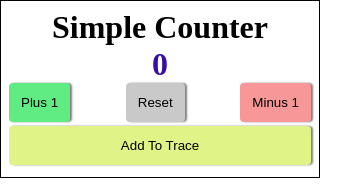
Test: counter testing › should add on click addButton
Expect to add 1
Click the button "Plus 1" at x=40, y=102, box [9,83,70,122]
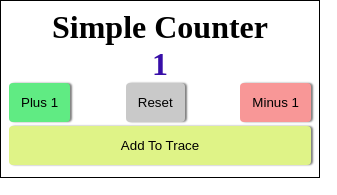
Check: the heading "0" reads "1", box [152,46,168,82]
Expect to add 1 more
Click the button "Plus 1" at x=40, y=102, box [9,83,70,122]
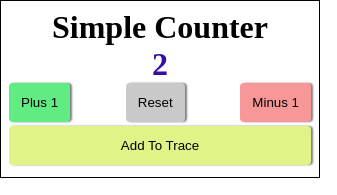
Check: the heading "0" reads "2", box [152,46,168,82]
